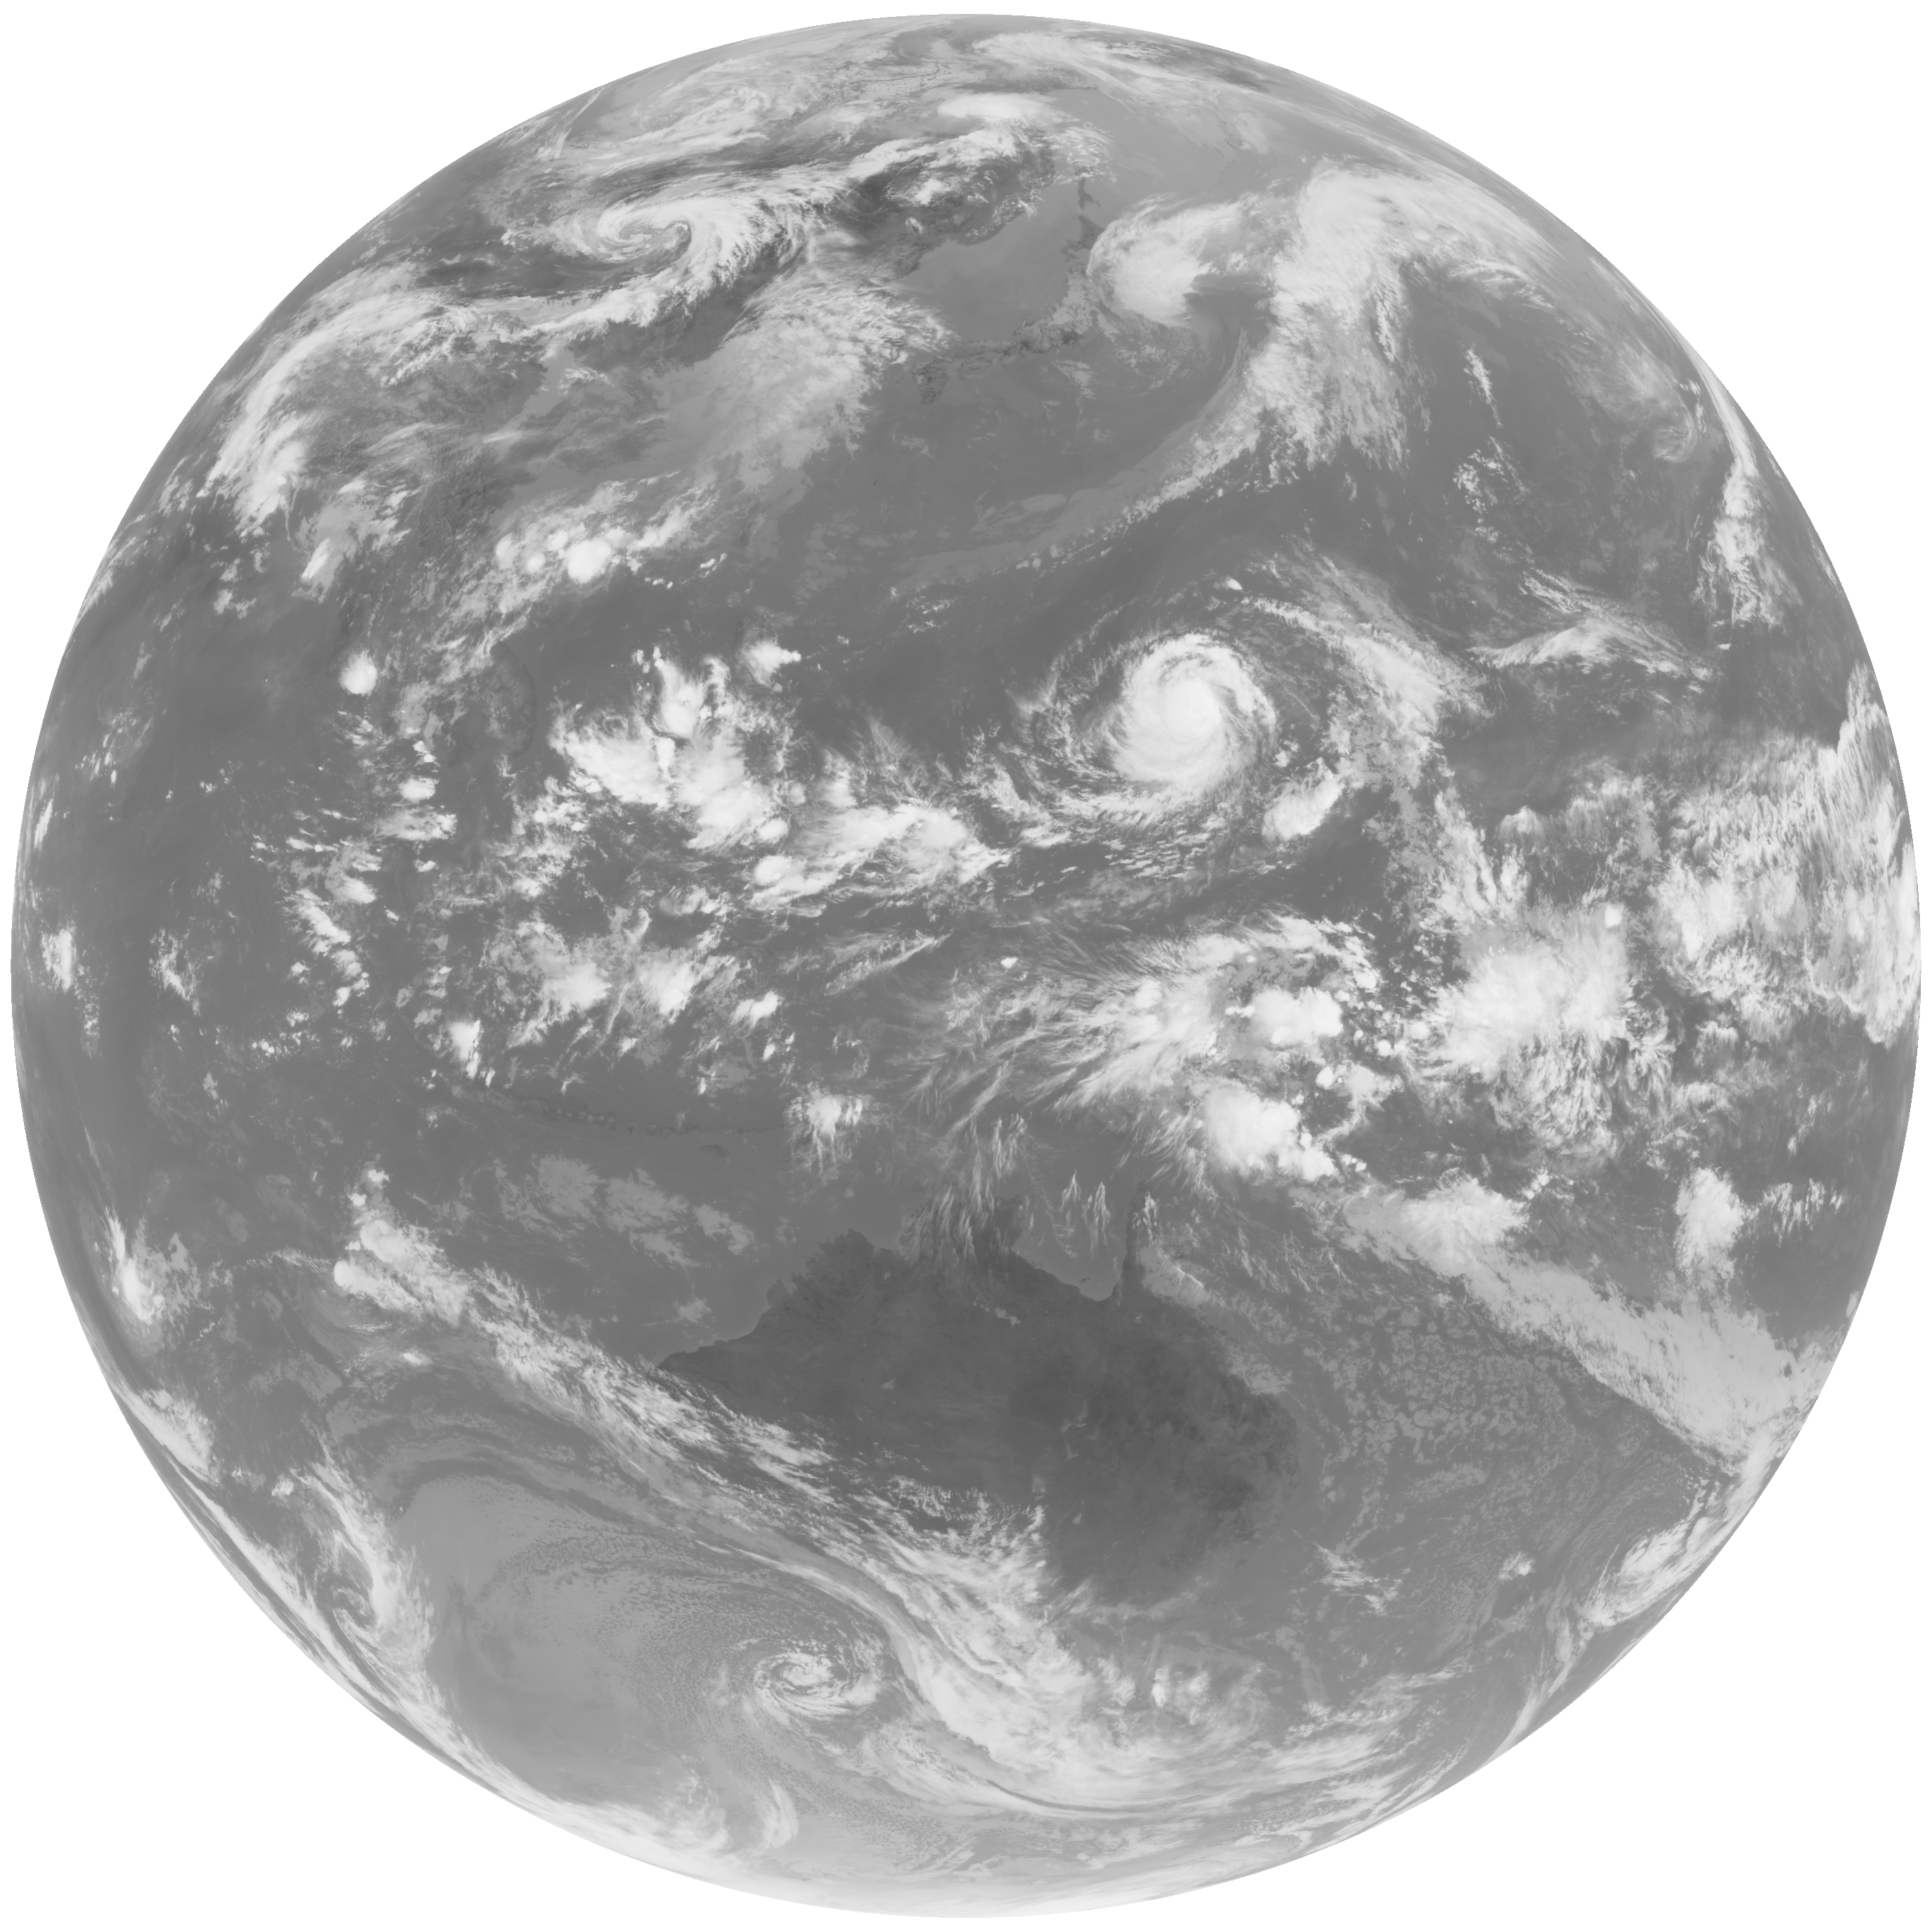typhoon: (966, 573, 1405, 908)
